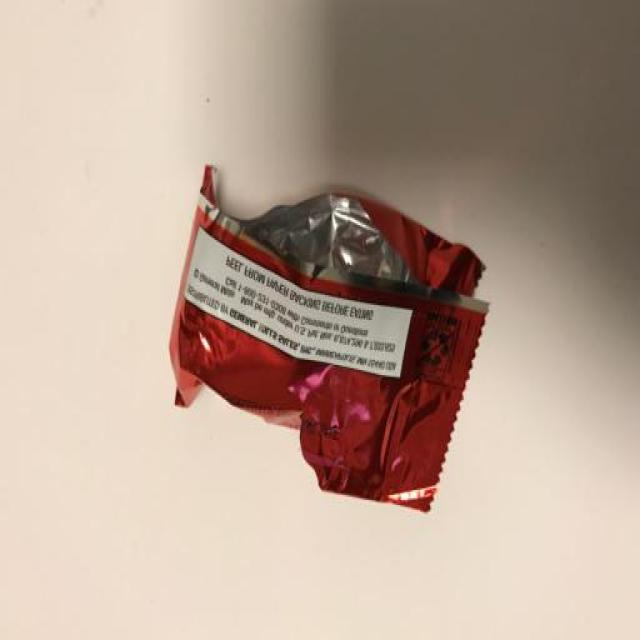Random Trash: (170, 163, 489, 512)
